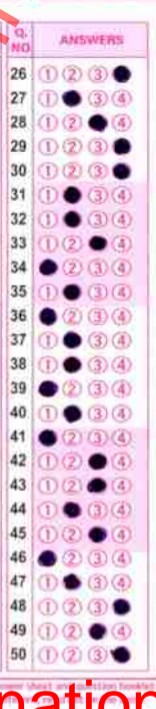filled circles: (88, 114, 107, 131), (87, 477, 107, 493), (63, 331, 81, 348), (63, 405, 81, 422), (111, 646, 130, 662), (113, 137, 130, 154), (113, 65, 130, 82), (63, 186, 80, 203), (62, 90, 80, 106), (38, 550, 56, 566), (63, 356, 81, 372), (88, 526, 106, 542), (39, 380, 57, 396), (88, 453, 106, 469), (40, 307, 56, 325), (39, 259, 57, 275), (63, 501, 80, 517), (89, 623, 106, 639), (113, 163, 130, 179), (39, 429, 56, 445), (113, 598, 130, 614), (64, 210, 80, 227), (63, 573, 80, 589), (63, 284, 80, 299), (89, 235, 106, 250)
